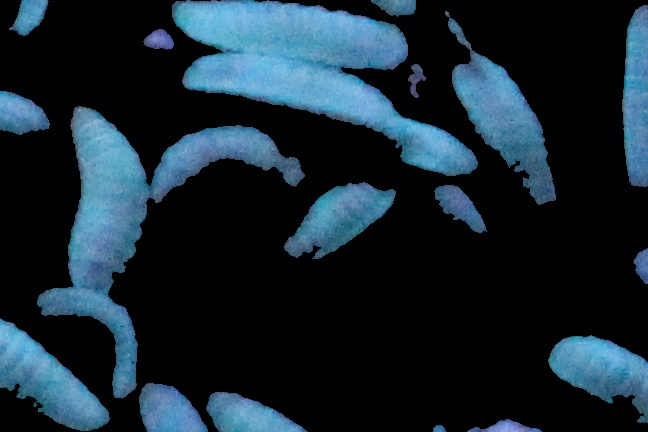larvae: (182, 51, 401, 134), (167, 1, 410, 70), (61, 106, 151, 292), (454, 45, 550, 176), (34, 283, 139, 398), (1, 320, 108, 432), (150, 123, 280, 202), (548, 326, 647, 422), (282, 180, 398, 261), (378, 110, 479, 172), (620, 7, 648, 190), (206, 385, 312, 432), (139, 384, 204, 432), (1, 85, 55, 137)
